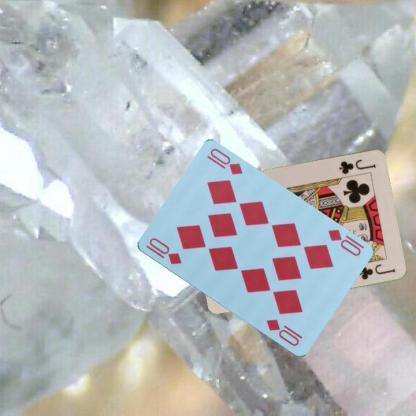10d: (142, 235, 182, 266), (324, 226, 362, 258)
Jc: (336, 157, 378, 176)
